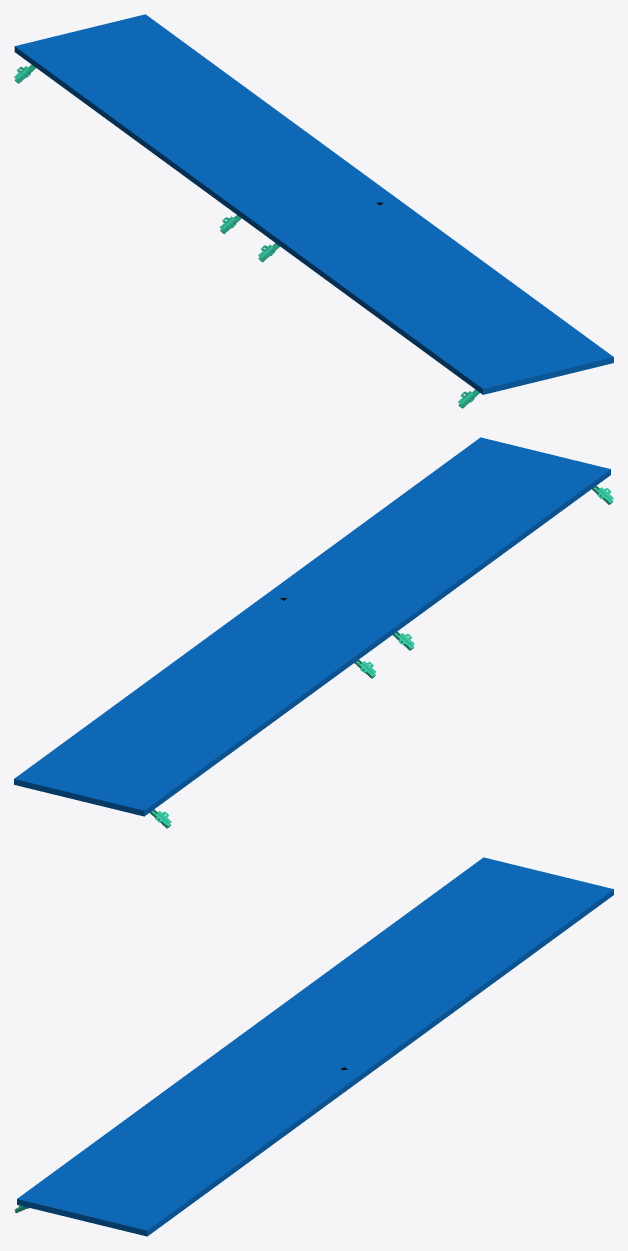
Rendered from dver_4.glb.
The picture shows the model from 3 angles, top to bottom: view 1: azimuth 30°, elevation 25°; view 2: azimuth 150°, elevation 25°; view 3: azimuth 330°, elevation 25°; orthographic projection.
Parts seen in each view (by area): view 1: Box001; view 2: Box001; view 3: Box001.
Part boxes in pixels (<box>): Box001: <box>14,14,613,394</box>; Box001: <box>14,437,610,816</box>; Box001: <box>17,857,613,1236</box>.
Bounding box in the file's own units: 40.77 × 6.6 × 231.
